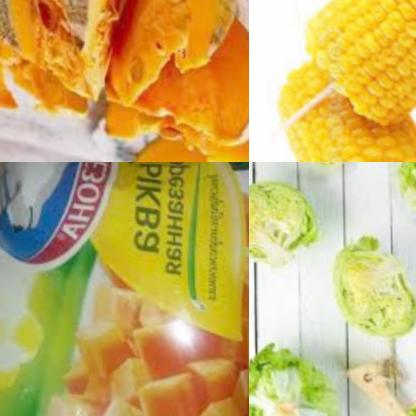corn: (260, 35, 416, 162), (304, 0, 416, 115)
pumpkin: (37, 244, 249, 416), (98, 0, 249, 142), (109, 0, 248, 111), (104, 64, 249, 162), (0, 0, 85, 93), (0, 0, 68, 116), (38, 0, 116, 100), (117, 115, 249, 162), (238, 180, 249, 244)
salad: (326, 227, 416, 340), (249, 173, 319, 274), (249, 343, 341, 416)
